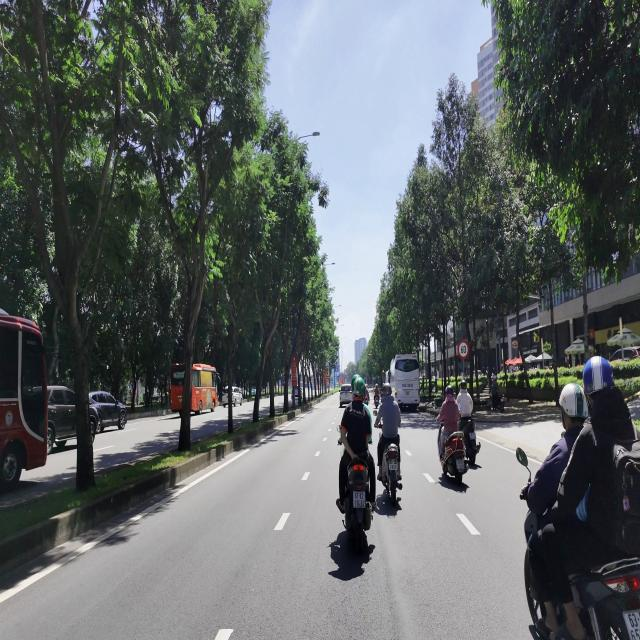car: (47, 386, 76, 453), (89, 392, 126, 433), (340, 384, 352, 407), (232, 387, 242, 406)
motorcycle: (570, 558, 639, 639), (344, 458, 372, 553), (439, 431, 467, 483), (381, 443, 402, 505), (459, 417, 480, 465), (375, 396, 379, 408)
